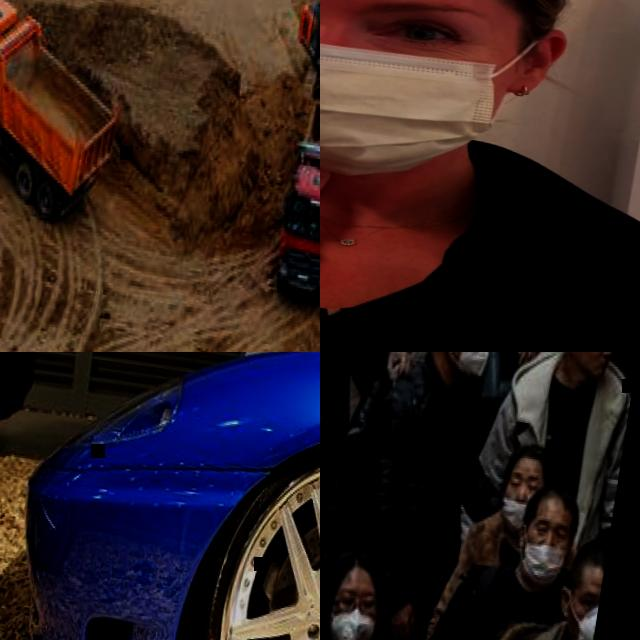Mask: (320, 0, 541, 191), (517, 544, 571, 592), (328, 606, 382, 640), (561, 600, 600, 640), (452, 352, 492, 384), (498, 500, 532, 532)
NO-Hardhat: (332, 544, 385, 588), (530, 481, 587, 520), (574, 526, 612, 582), (517, 440, 551, 474)
NO-Mask: (569, 352, 613, 382)
NO-Safety Vest: (320, 130, 640, 352), (368, 374, 481, 594), (506, 367, 634, 531), (462, 561, 570, 640), (464, 529, 524, 581), (320, 638, 393, 640)
Person: (320, 0, 640, 352), (336, 352, 538, 640), (456, 352, 640, 573), (419, 430, 560, 640), (423, 467, 592, 640), (320, 352, 408, 511), (517, 518, 613, 640), (320, 535, 426, 640), (320, 402, 350, 624), (581, 352, 640, 397)
vehicle: (0, 352, 320, 640), (0, 0, 144, 235), (264, 90, 320, 312), (0, 352, 58, 475)
